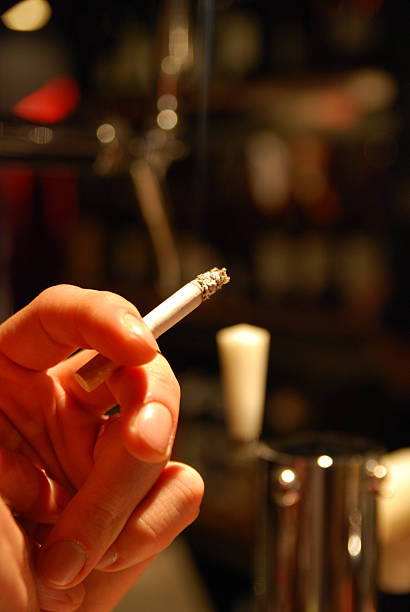cigarette: (73, 262, 226, 394)
